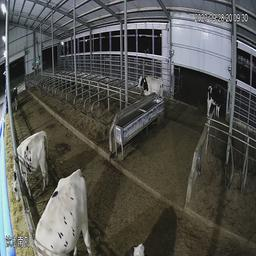cow: (34, 169, 96, 253), (9, 131, 55, 202), (132, 69, 169, 104), (4, 80, 24, 112), (205, 85, 222, 120)
